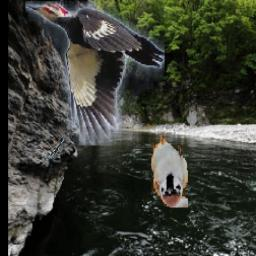Crow: (46, 138, 65, 160)
Sparrow: (151, 126, 188, 208)
Woodpecker: (26, 1, 166, 145)
